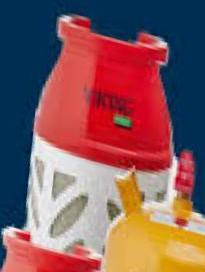cylinder: (1, 1, 205, 272)
